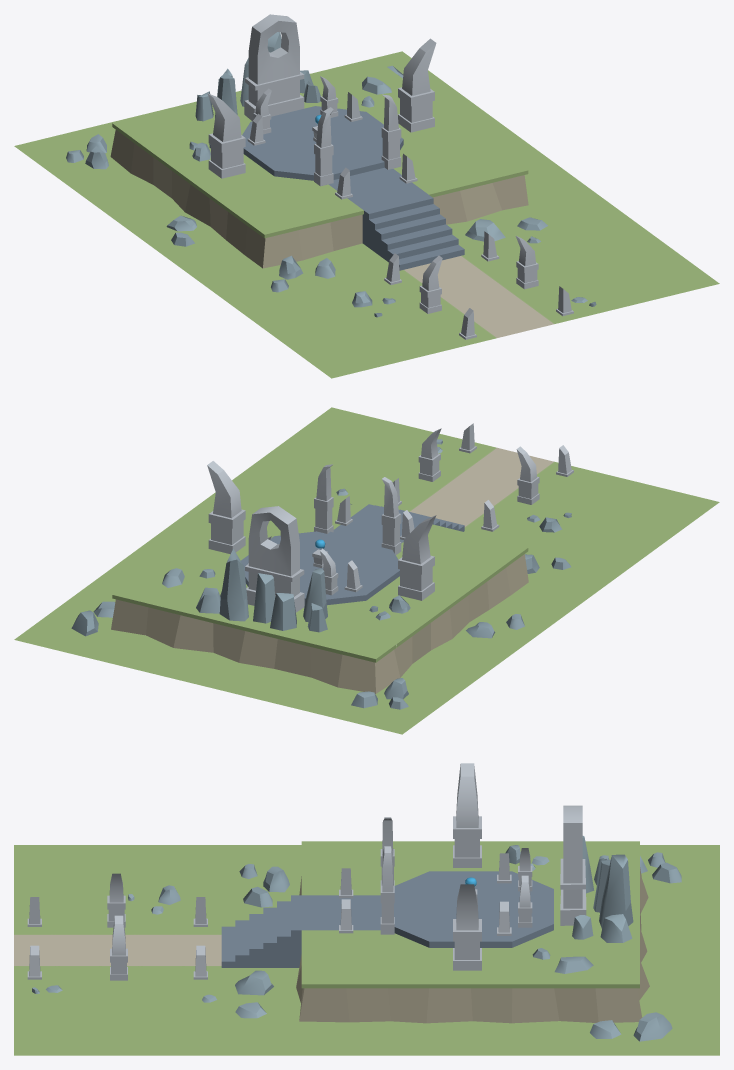
3 renders of one model, top to bottom at view 1: azimuth 30°, elevation 25°; view 2: azimuth 150°, elevation 25°; view 3: azimuth 270°, elevation 25°, orthographic. The views are drawn at different scales.
Parts seen in each view (by area): view 1: GEO_Grass, GEO_Grass1, GEO_Grass3, GEO_Stair, GEO_Grass2, GEO_Head_Stone, GEO_Grass4, GEO_Grass5, GEO_Decor_Spike6, GEO_Decor_Spike7, GEO_Stone_Floor1, GEO_Stone_Floor2 (+45 smaller); view 2: GEO_Grass, GEO_Grass1, GEO_Grass5, GEO_Grass3, GEO_Grass2, GEO_Grass4, GEO_Head_Stone, GEO_Decor_Spike6, GEO_Decor_Spike7, GEO_Stone_V25, GEO_Wall18, GEO_Decor_Spike8 (+50 smaller); view 3: GEO_Grass1, GEO_Grass, GEO_Grass5, GEO_Grass4, GEO_Grass2, GEO_Stair, GEO_Head_Stone, GEO_Decor_Spike7, GEO_Stone_Floor1, GEO_Decor_Spike6, GEO_Stone_Floor2, GEO_Stone_V25 (+59 smaller).
Part boxes in pixels (x1=…): GEO_Grass: x1=201, y1=243, x2=492, y2=378; GEO_Grass1: x1=447, y1=188, x2=719, y2=323; GEO_Grass3: x1=51, y1=158, x2=261, y2=282; GEO_Stair: x1=362, y1=193, x2=464, y2=270; GEO_Grass2: x1=167, y1=82, x2=454, y2=197; GEO_Head_Stone: x1=244, y1=14, x2=304, y2=120; GEO_Grass4: x1=429, y1=78, x2=588, y2=202; GEO_Grass5: x1=14, y1=51, x2=438, y2=173; GEO_Decor_Spike6: x1=398, y1=38, x2=436, y2=132; GEO_Decor_Spike7: x1=207, y1=93, x2=245, y2=178; GEO_Stone_Floor1: x1=328, y1=167, x2=426, y2=209; GEO_Stone_Floor2: x1=269, y1=119, x2=370, y2=162; GEO_Grass: x1=464, y1=462, x2=719, y2=597; GEO_Grass1: x1=201, y1=407, x2=492, y2=510; GEO_Grass5: x1=14, y1=612, x2=439, y2=734; GEO_Grass3: x1=379, y1=583, x2=588, y2=707; GEO_Grass2: x1=167, y1=522, x2=454, y2=635; GEO_Grass4: x1=51, y1=503, x2=213, y2=626; GEO_Head_Stone: x1=245, y1=506, x2=304, y2=612; GEO_Decor_Spike6: x1=207, y1=461, x2=245, y2=554; GEO_Decor_Spike7: x1=398, y1=515, x2=436, y2=600; GEO_Stone_V25: x1=219, y1=549, x2=248, y2=621; GEO_Wall18: x1=173, y1=615, x2=213, y2=652; GEO_Decor_Spike8: x1=381, y1=477, x2=401, y2=554; GEO_Grass1: x1=14, y1=968, x2=304, y2=1055; GEO_Grass: x1=14, y1=845, x2=301, y2=932; GEO_Grass5: x1=637, y1=845, x2=719, y2=1055; GEO_Grass4: x1=304, y1=1021, x2=636, y2=1055; GEO_Grass2: x1=387, y1=860, x2=595, y2=965; GEO_Stair: x1=221, y1=895, x2=304, y2=967; GEO_Head_Stone: x1=560, y1=805, x2=586, y2=925; GEO_Decor_Spike7: x1=453, y1=763, x2=481, y2=867; GEO_Stone_Floor1: x1=304, y1=895, x2=381, y2=930; GEO_Decor_Spike6: x1=453, y1=884, x2=481, y2=970; GEO_Stone_Floor2: x1=429, y1=889, x2=512, y2=923; GEO_Stone_V25: x1=599, y1=854, x2=633, y2=928.
Size of the model in its own units: 0.12 by 0.0383 by 0.17.
2 materials, 2 textured.
